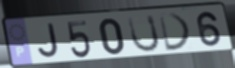0: (98, 17, 126, 57)
5: (66, 19, 92, 59)
6: (196, 10, 223, 48)
D: (157, 12, 194, 53)
J: (36, 22, 62, 60)
U: (126, 13, 162, 54)
